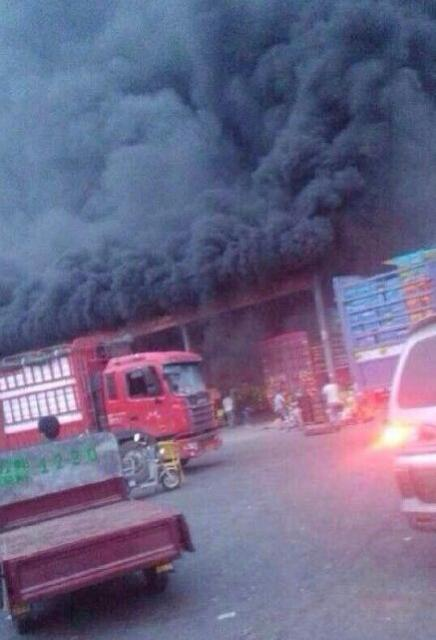smoke: (0, 0, 431, 247), (130, 248, 320, 312), (0, 248, 128, 335)
